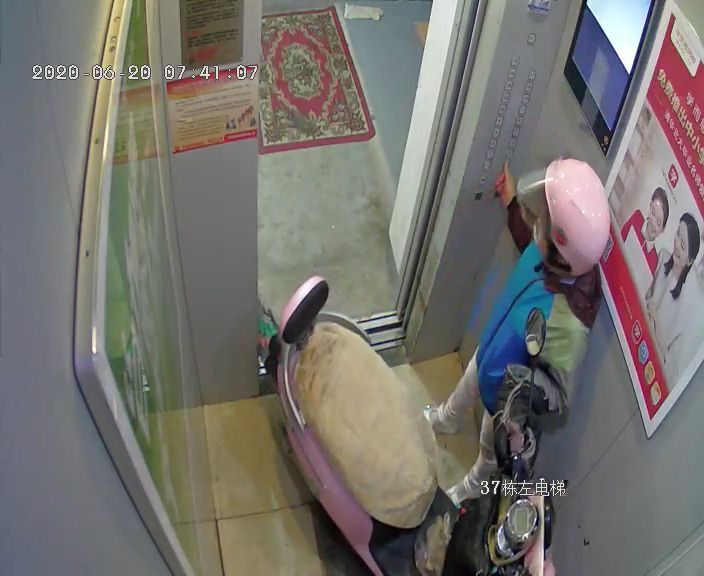Electric-bicycle: (269, 275, 548, 576)
